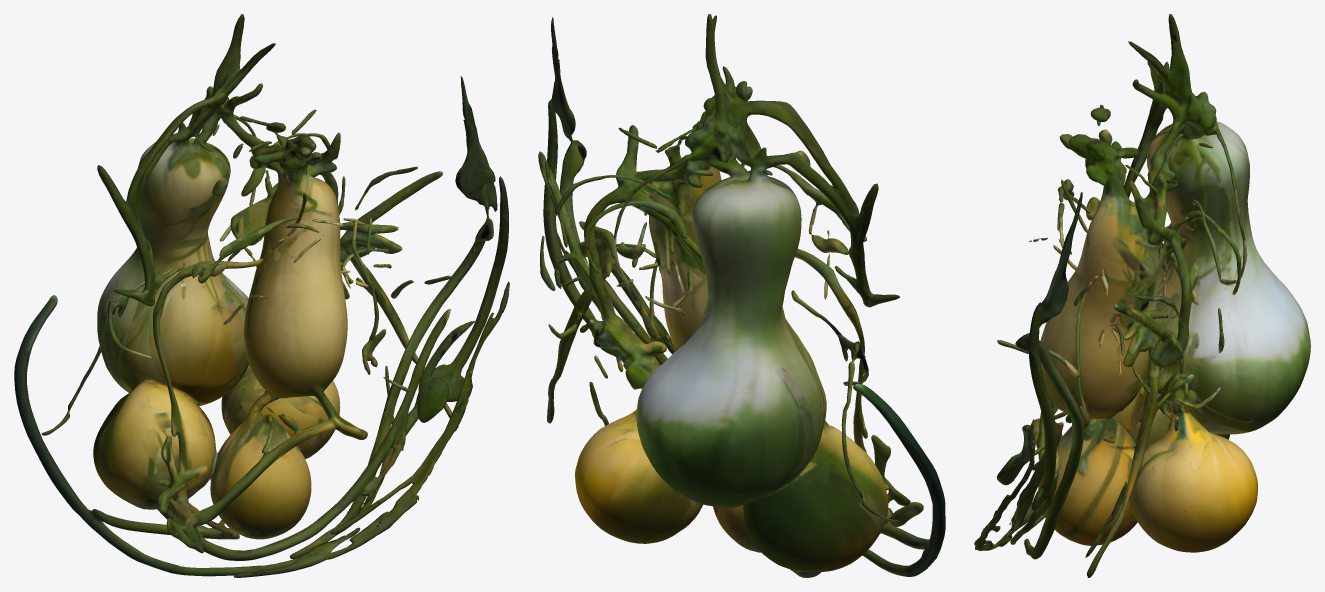
File: creeper0051.gltf
3 views of the same model, side by side, from view 1: azimuth 30°, elevation 25°; view 2: azimuth 150°, elevation 25°; view 3: azimuth 270°, elevation 25° (orthographic). The views are drawn at different scales.
Visible parts, largest first — view 1: Mesh_0.004; view 2: Mesh_0.004; view 3: Mesh_0.004.
Part boxes in pixels (left/top/right/bottom): Mesh_0.004: left=14, top=14, right=509, bottom=577; Mesh_0.004: left=538, top=14, right=945, bottom=577; Mesh_0.004: left=974, top=14, right=1310, bottom=577.
Size of the model in its own units: 1.78 by 2.04 by 1.14.
Materials: 1 (1 with a texture image).
